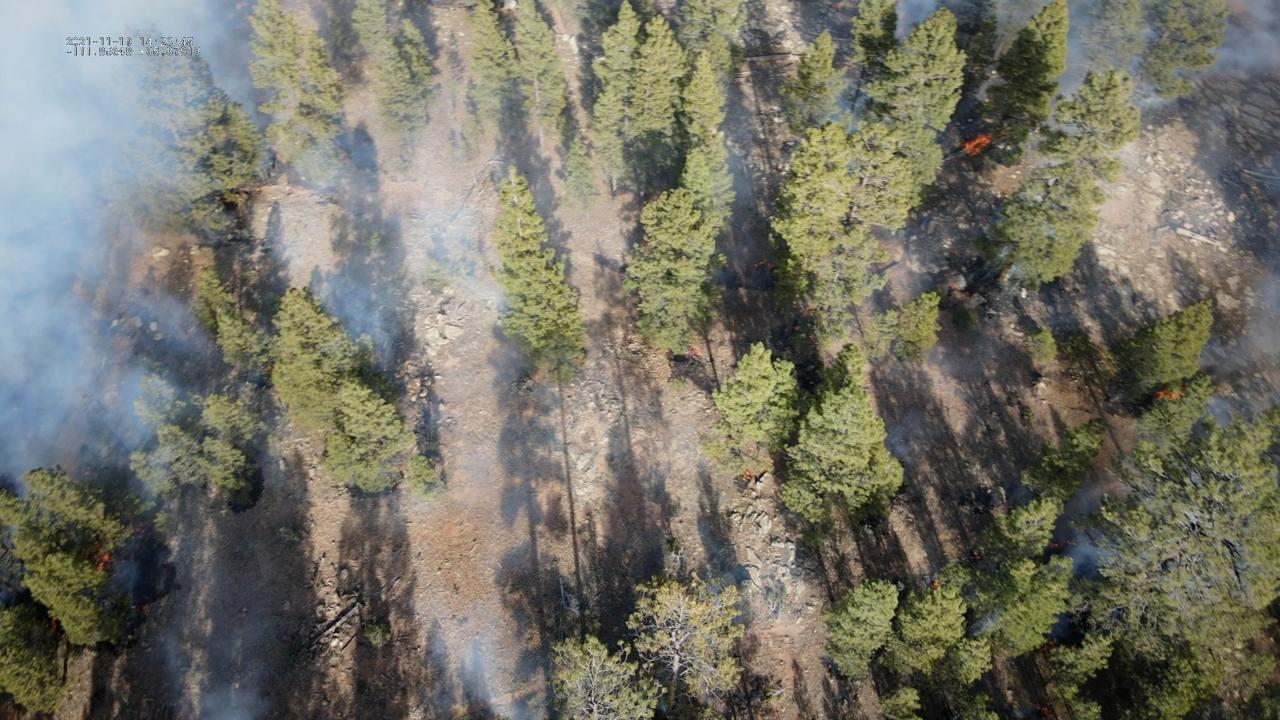fire: (960, 131, 996, 161), (77, 541, 109, 572), (1150, 387, 1186, 404), (742, 470, 753, 481), (930, 580, 940, 592), (1046, 542, 1063, 548)
smoke: (0, 0, 520, 610), (1037, 270, 1280, 648), (821, 0, 1280, 132), (696, 81, 780, 290), (392, 610, 551, 720), (155, 611, 275, 720), (872, 408, 932, 472), (970, 609, 1004, 639)
